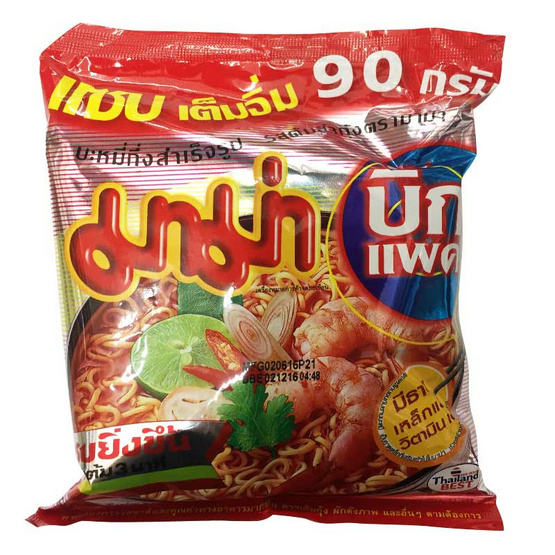Snack: (25, 8, 508, 543)
